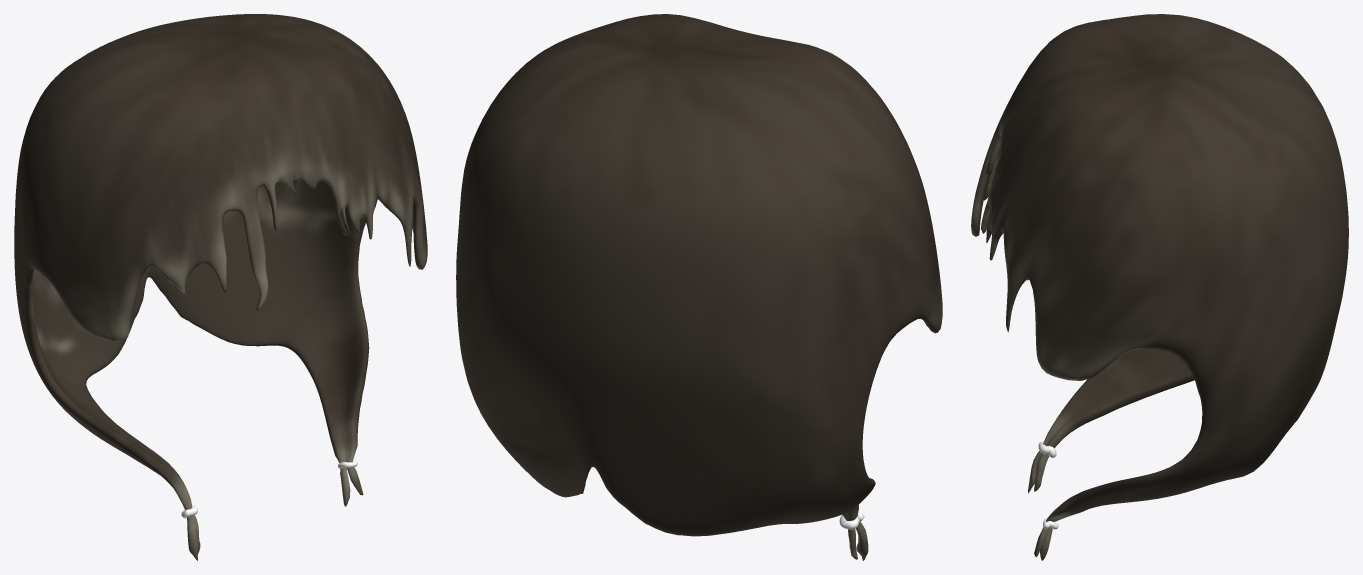
File: Braid_Frosted_Blonde.glb
The picture shows the model from 3 angles, left to right: view 1: azimuth 30°, elevation 25°; view 2: azimuth 150°, elevation 25°; view 3: azimuth 270°, elevation 25°; orthographic projection. The views are drawn at different scales.
Visible parts, largest first — view 1: Braid_Frosted_Blonde; view 2: Braid_Frosted_Blonde; view 3: Braid_Frosted_Blonde.
Boxes of the visible parts, left/top/right/bottom form: Braid_Frosted_Blonde: left=14, top=14, right=427, bottom=560; Braid_Frosted_Blonde: left=456, top=14, right=942, bottom=560; Braid_Frosted_Blonde: left=971, top=14, right=1348, bottom=560.
Size of the model in its own units: 0.936 by 1.11 by 0.791.
2 materials, 1 textured.
